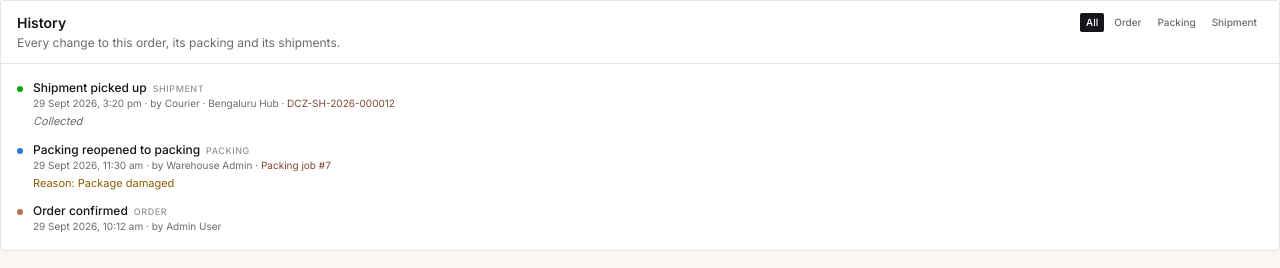
FulfilmentHistory › filters by record
The image size is (1280, 268).
Step 1. Click the button "Packing" → (1177, 22), box x1=1152 y1=13 x2=1202 y2=32
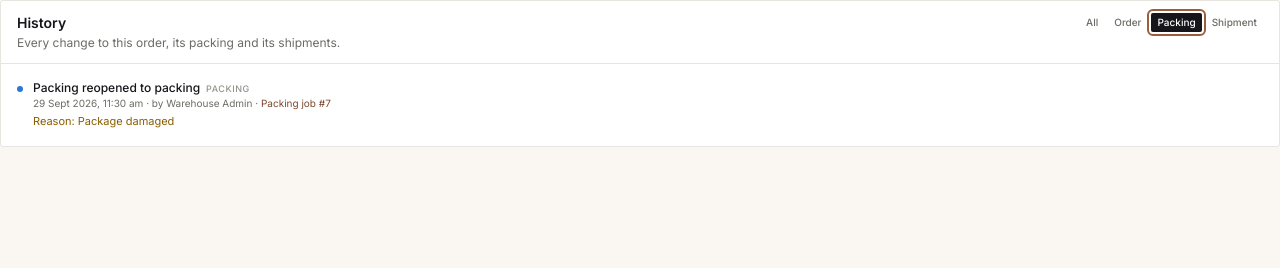
Expected: the text "Packing reopened" is shown, x1=33 y1=80 x2=200 y2=95
Result: the text "Order confirmed" is gone
